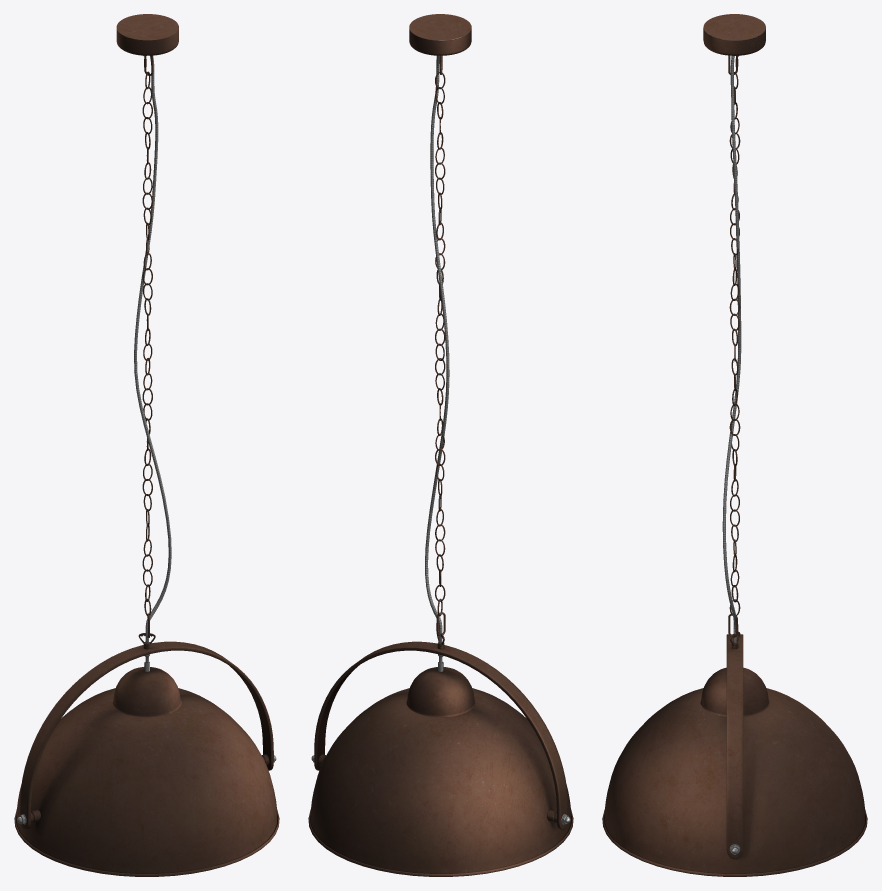
The model's file is light.glb.
The picture shows the model from 3 angles, left to right: view 1: azimuth 30°, elevation 25°; view 2: azimuth 150°, elevation 25°; view 3: azimuth 270°, elevation 25°; orthographic projection.
Visible parts, largest first — view 1: BLACK_METAL, WIRE; view 2: BLACK_METAL, WIRE; view 3: BLACK_METAL, WIRE.
Part boxes in pixels (box(x1,y1,x2,y2)): BLACK_METAL: box(14, 14, 279, 876); WIRE: box(134, 55, 171, 663); BLACK_METAL: box(308, 14, 573, 876); WIRE: box(425, 55, 449, 663); BLACK_METAL: box(602, 14, 867, 876); WIRE: box(722, 55, 741, 643).
Bounding box in the file's own units: 0.1807 × 0.536 × 0.1607.
Materials: 5 (4 with a texture image).
